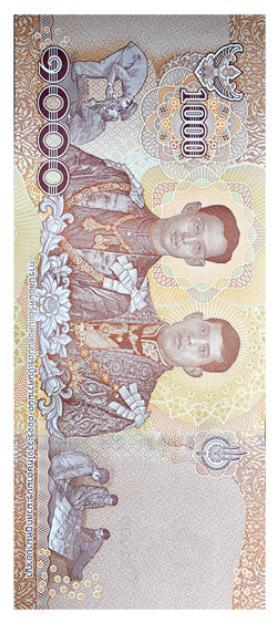1000BahtTai: (11, 16, 262, 608)
